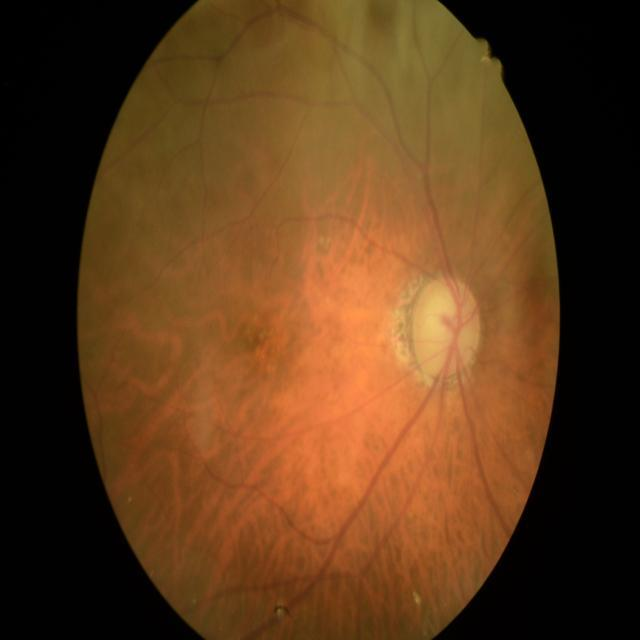cup: (422, 286, 470, 366)
disk: (413, 273, 483, 381)
